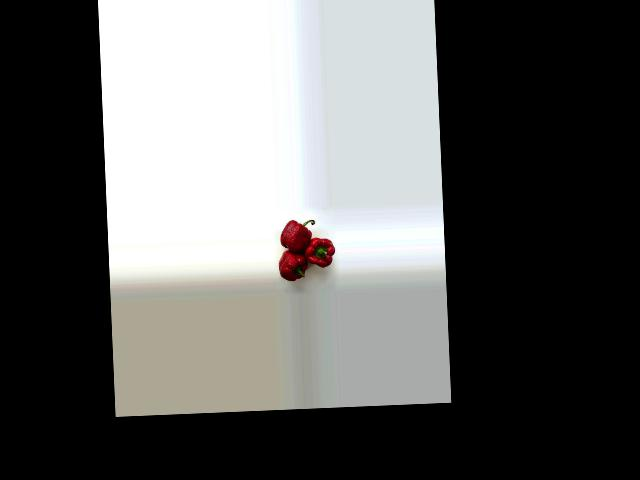bell_pepper: (277, 212, 317, 250)
